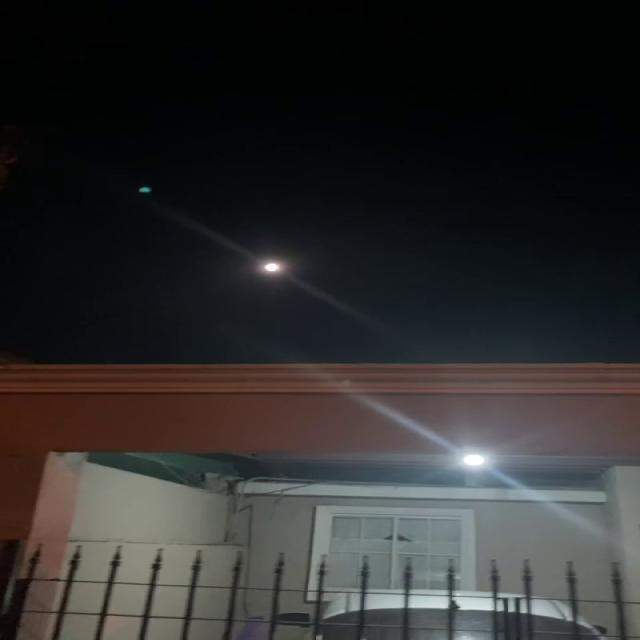moon: (252, 255, 289, 282)
